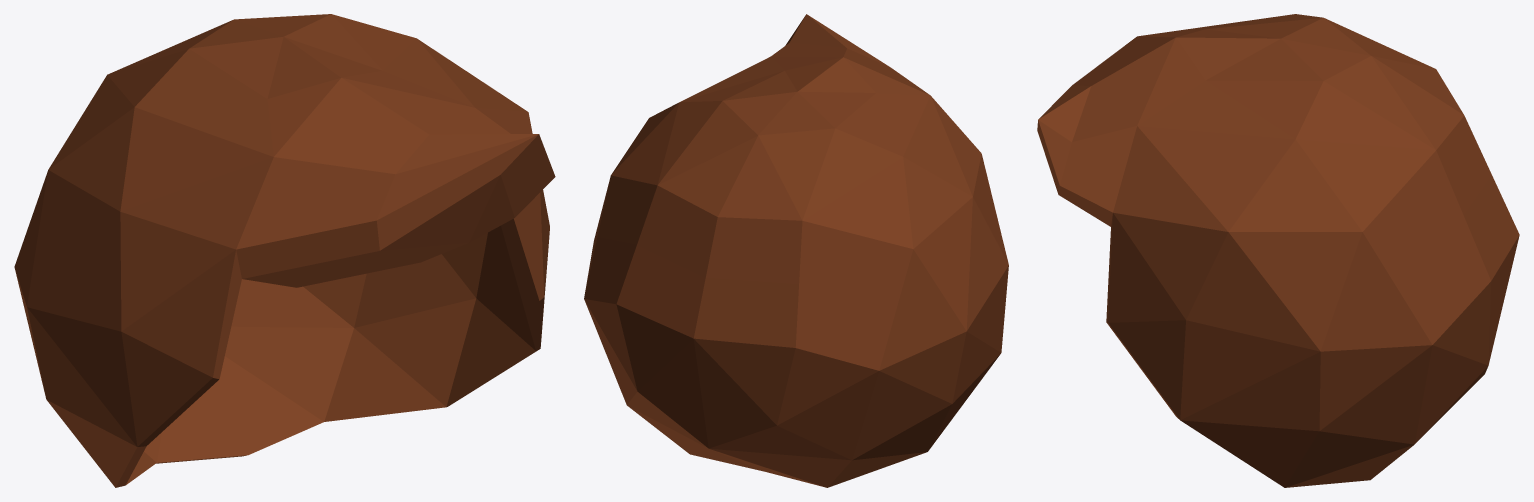
Rendered from Haircut2.fbx.
3 views of the same model, side by side, from view 1: azimuth 30°, elevation 25°; view 2: azimuth 150°, elevation 25°; view 3: azimuth 270°, elevation 25° (orthographic). The views are drawn at different scales.
Parts seen in each view (by area): view 1: characterBase.001; view 2: characterBase.001; view 3: characterBase.001.
Boxes of the visible parts, box(x1,y1,x2,y2) form: characterBase.001: box(14, 14, 555, 487); characterBase.001: box(584, 14, 1008, 487); characterBase.001: box(1037, 14, 1519, 487).
Bounding box in the file's own units: 62.99 × 57.72 × 61.47.
